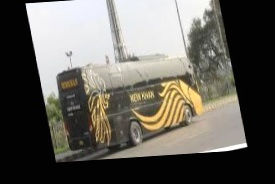bus: (52, 40, 213, 160)
